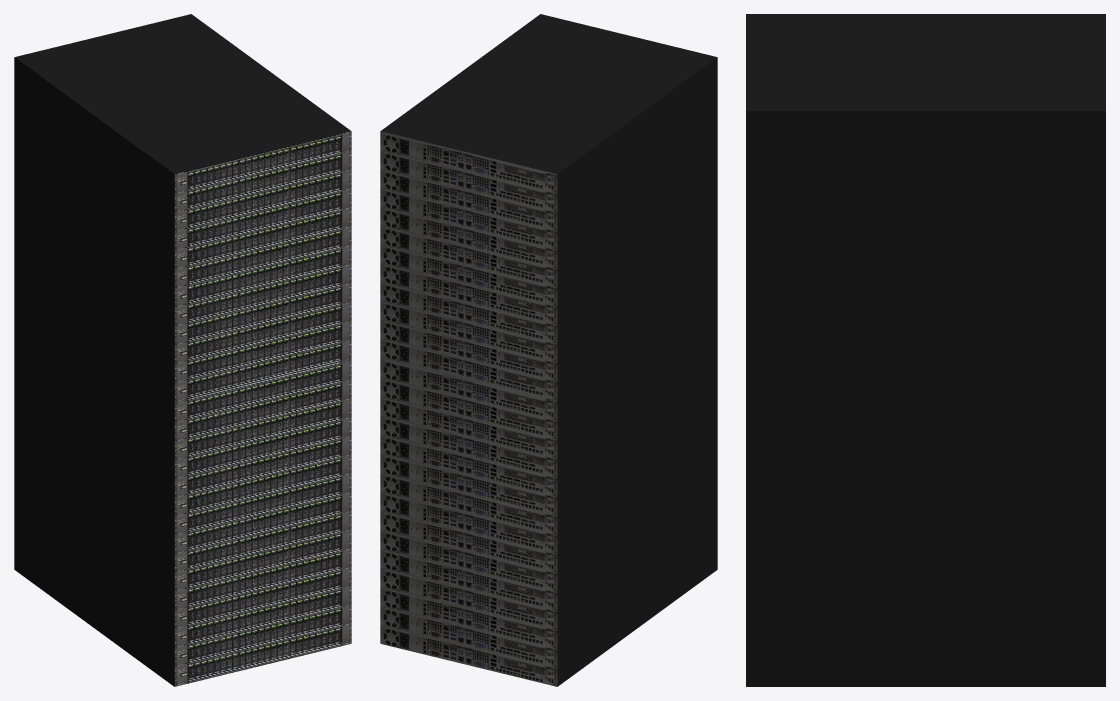
File: CDR27.fbx
The picture shows the model from 3 angles, left to right: view 1: azimuth 30°, elevation 25°; view 2: azimuth 150°, elevation 25°; view 3: azimuth 270°, elevation 25°; orthographic projection. The views are drawn at different scales.
Visible parts, largest first — view 1: CDR27; view 2: CDR27; view 3: CDR27.
Part boxes in pixels (bbox=[...]): CDR27: bbox=[14, 14, 351, 686]; CDR27: bbox=[380, 14, 717, 686]; CDR27: bbox=[746, 14, 1105, 686].
Size of the model in its own units: 434 by 1202 by 680.
3 materials, 2 textured.
